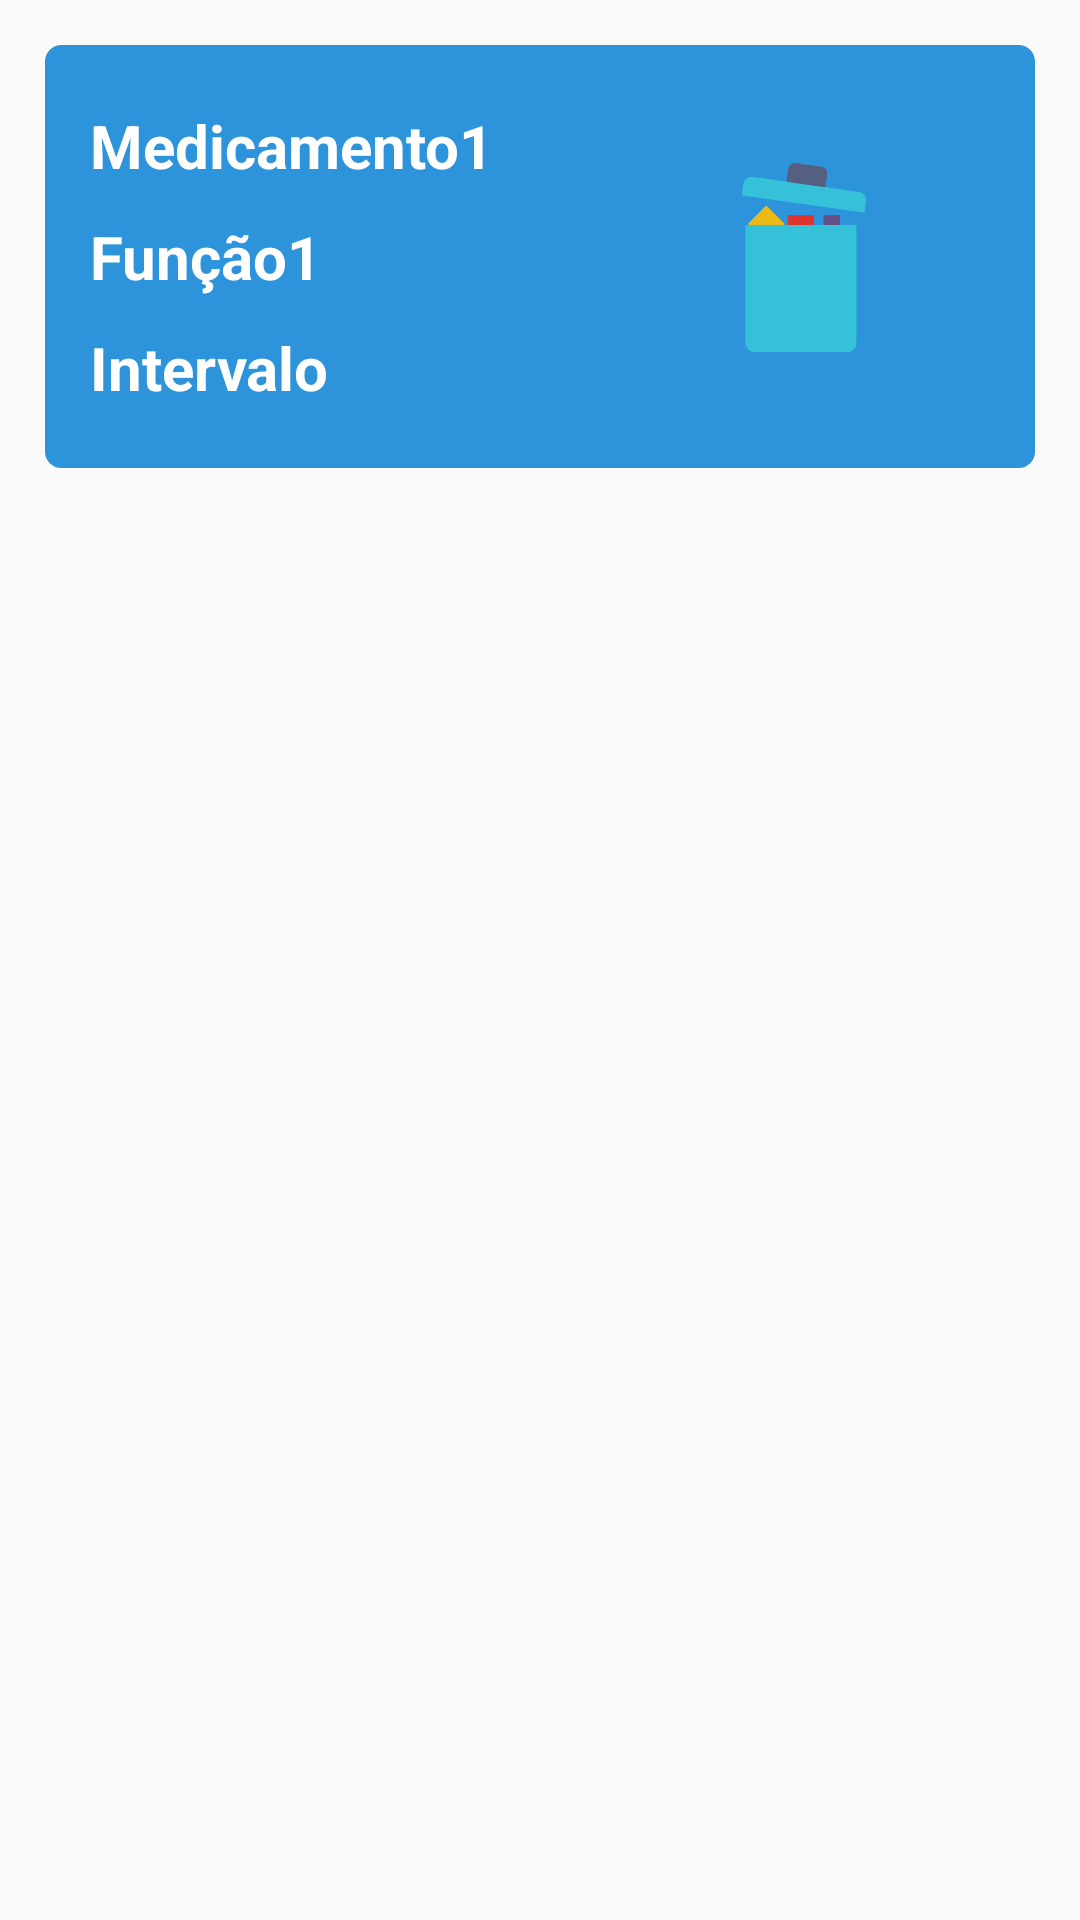

Icon bounding boxes for this 1080 × 1920 phone screenshot, format (x1, y1, x2, y2):
delete: (742, 163, 866, 352)
